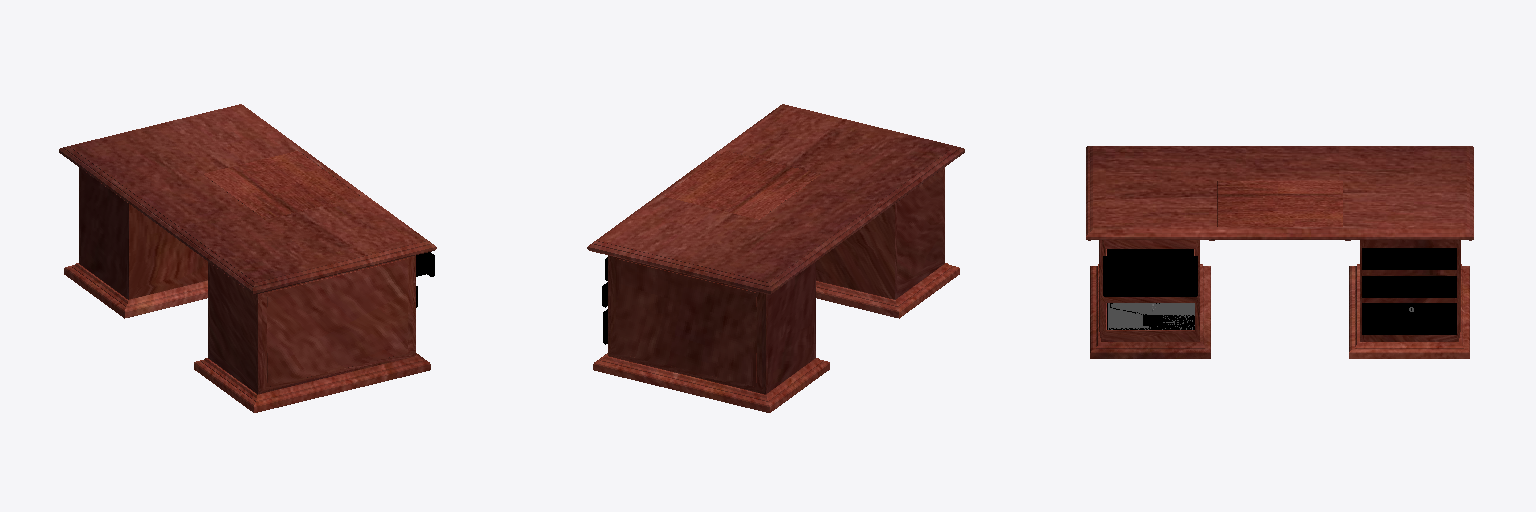
The picture shows the model from 3 angles: view 1: azimuth 30°, elevation 25°; view 2: azimuth 150°, elevation 25°; view 3: azimuth 270°, elevation 25°; orthographic projection.
Visible parts, largest first — view 1: Mesh, DESK; view 2: Mesh, DESK; view 3: Mesh, DESK, DESKpolySurface1cajon5, DESKcajoncajon, DESKcajoncajon4, DESKcajoncajon3, DESKcajoncajon1, DESKpolySurface1cajon6, DESKpolySurface1cajon2.
Boxes of the visible parts, x1=… form: Mesh: x1=59, y1=104, x2=436, y2=412; DESK: x1=203, y1=151, x2=360, y2=219; Mesh: x1=587, y1=104, x2=964, y2=412; DESK: x1=663, y1=151, x2=820, y2=219; Mesh: x1=1086, y1=146, x2=1473, y2=358; DESK: x1=1217, y1=181, x2=1342, y2=226; DESKpolySurface1cajon5: x1=1362, y1=303, x2=1456, y2=334; DESKcajoncajon: x1=1103, y1=249, x2=1197, y2=277; DESKcajoncajon4: x1=1362, y1=276, x2=1456, y2=297; DESKcajoncajon3: x1=1362, y1=248, x2=1456, y2=269; DESKcajoncajon1: x1=1103, y1=277, x2=1197, y2=296; DESKpolySurface1cajon6: x1=1108, y1=303, x2=1194, y2=329; DESKpolySurface1cajon2: x1=1107, y1=303, x2=1194, y2=329.
Bounding box in the file's own units: 2.42 × 1.49 × 4.06.
4 materials, 1 textured.